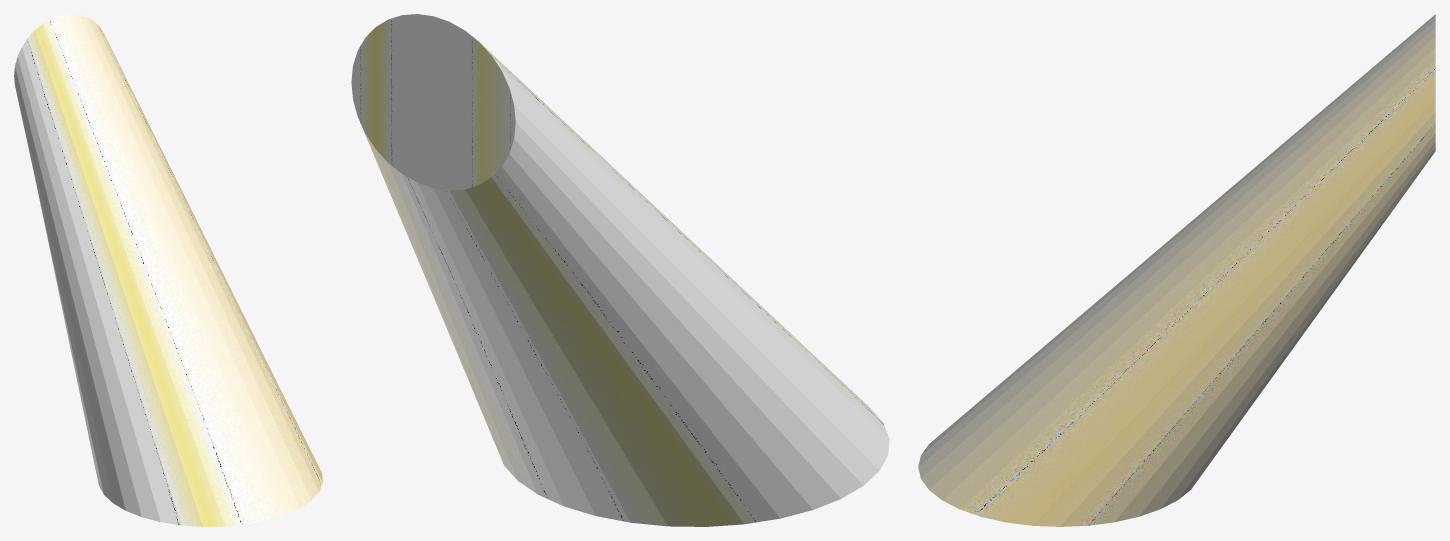
File: Lumiere.glb
The picture shows the model from 3 angles, left to right: view 1: azimuth 30°, elevation 25°; view 2: azimuth 150°, elevation 25°; view 3: azimuth 270°, elevation 25°; orthographic projection. The views are drawn at different scales.
Visible parts, largest first — view 1: Ray Lights; view 2: Ray Lights; view 3: Ray Lights.
Part boxes in pixels (left/top/right/bottom): Ray Lights: left=14, top=14, right=322, bottom=526; Ray Lights: left=351, top=14, right=889, bottom=526; Ray Lights: left=918, top=14, right=1435, bottom=526.
Bounding box in the file's own units: 2 × 3.48 × 3.65.
Materials: 1 (1 with a texture image).
